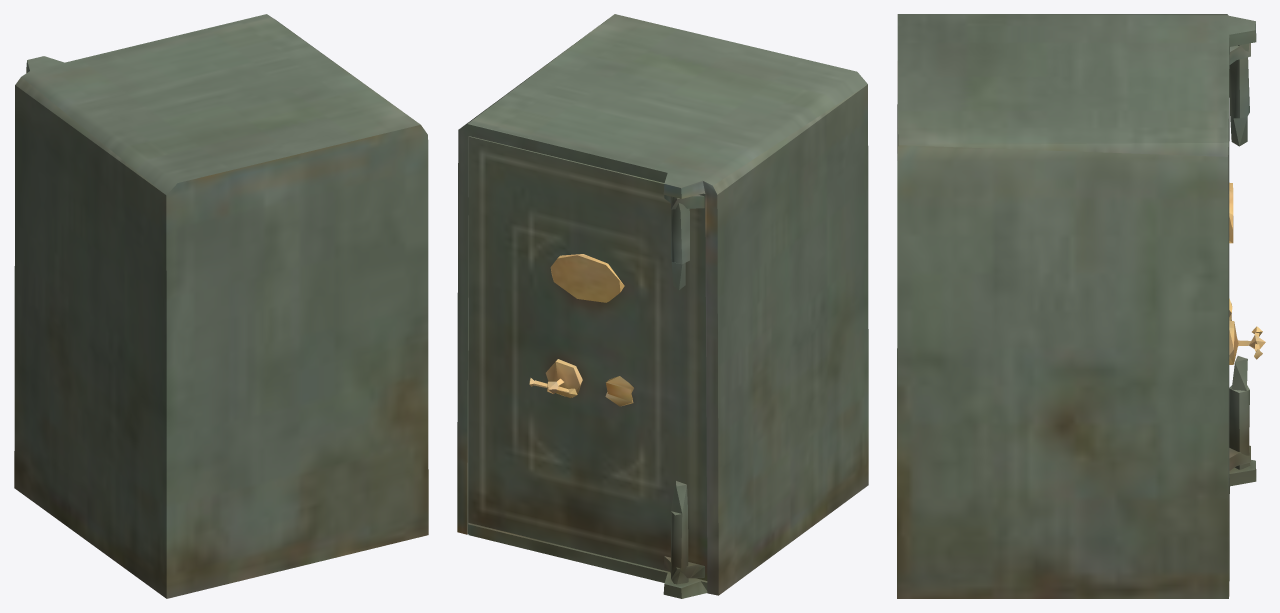
Rendered from safe-office.lod1.glb.
The picture shows the model from 3 angles, left to right: view 1: azimuth 30°, elevation 25°; view 2: azimuth 150°, elevation 25°; view 3: azimuth 270°, elevation 25°; orthographic projection. The views are drawn at different scales.
Visible parts, largest first — view 1: safe-office; view 2: safe-office; view 3: safe-office.
Boxes of the visible parts, bbox=[...] form: safe-office: bbox=[14, 14, 428, 598]; safe-office: bbox=[457, 14, 868, 598]; safe-office: bbox=[897, 14, 1265, 598].
Size of the model in its own units: 0.6213 by 0.9343 by 0.6918.
1 material, 1 textured.
